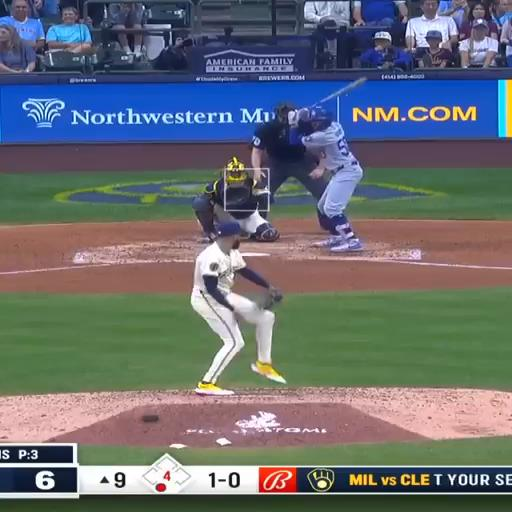bat: (310, 77, 367, 107)
